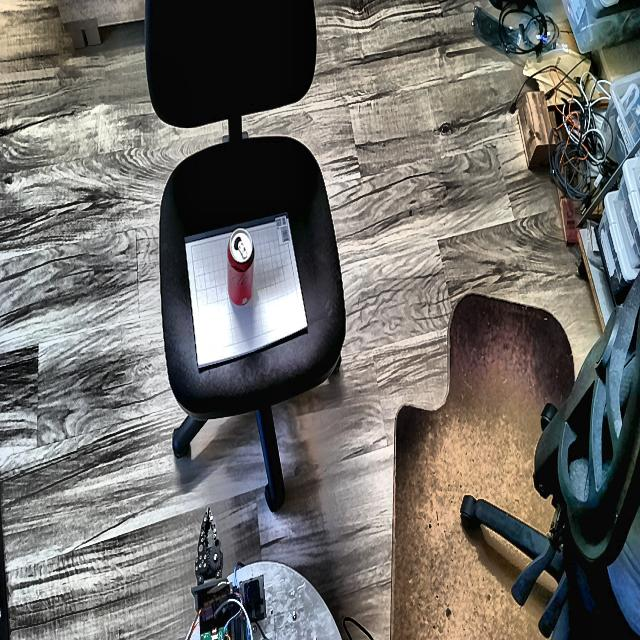Can: (228, 229, 254, 305)
